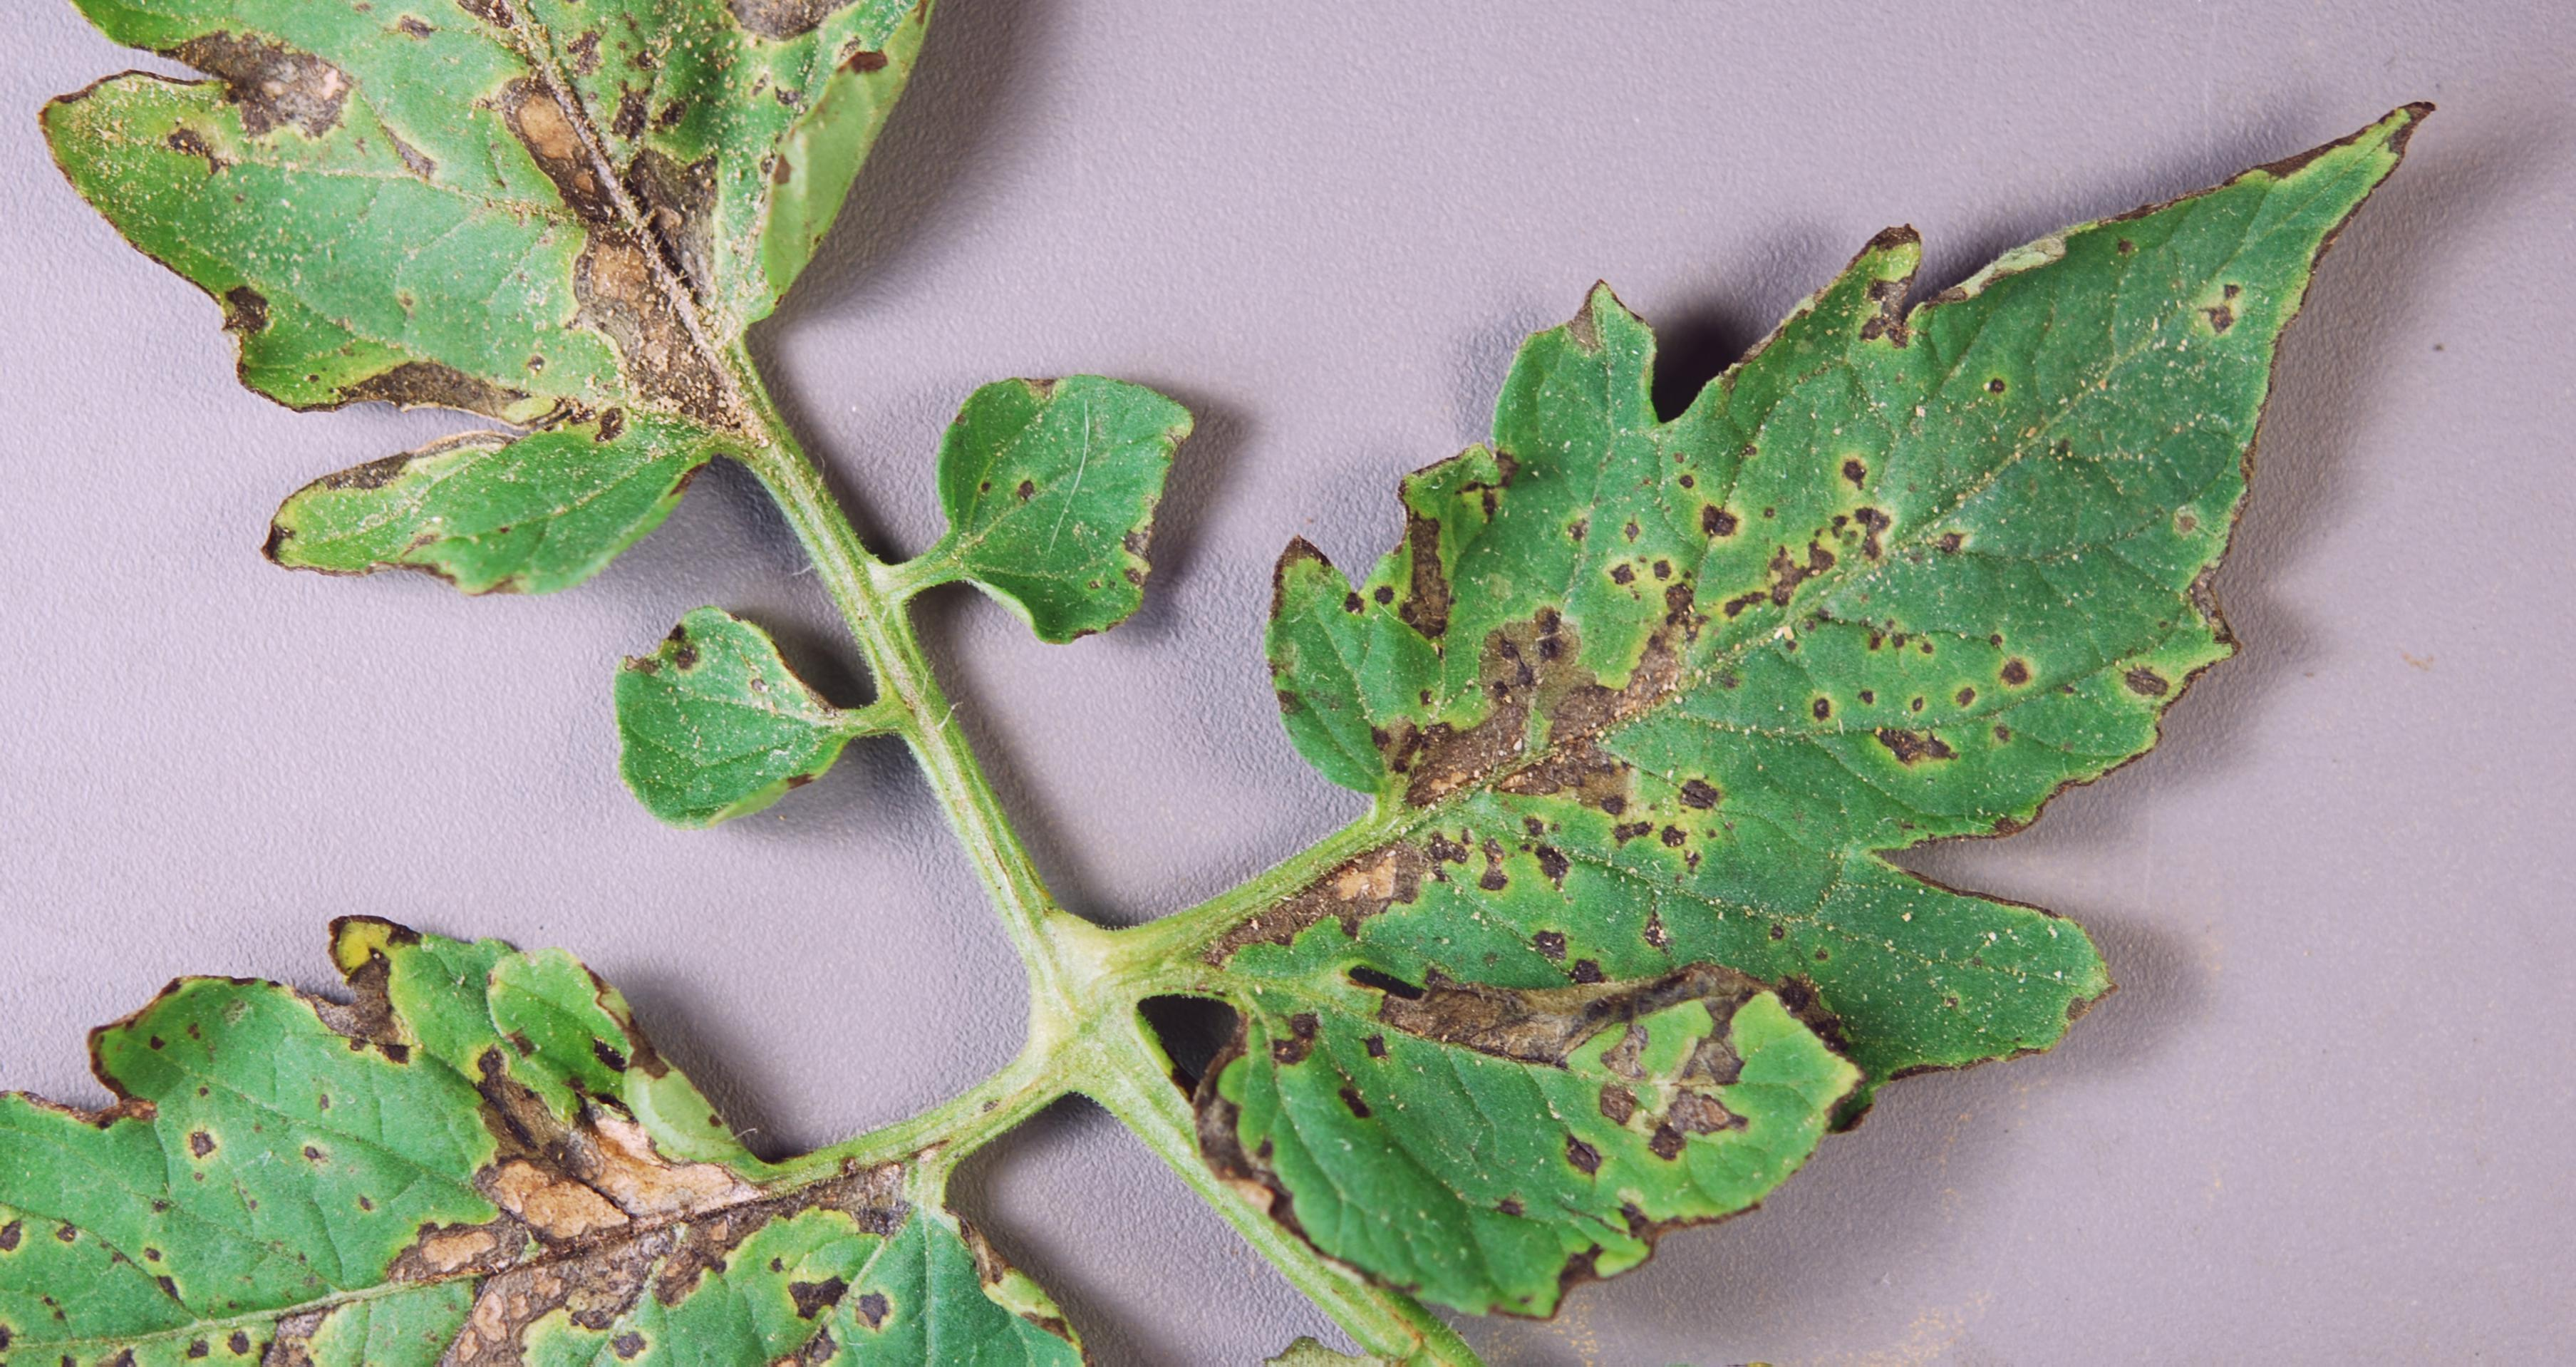Tomato Septoria leaf spot: (1184, 65, 2419, 1108), (0, 0, 978, 777), (0, 874, 1138, 1367), (1181, 908, 1905, 1324), (889, 322, 1281, 641)
